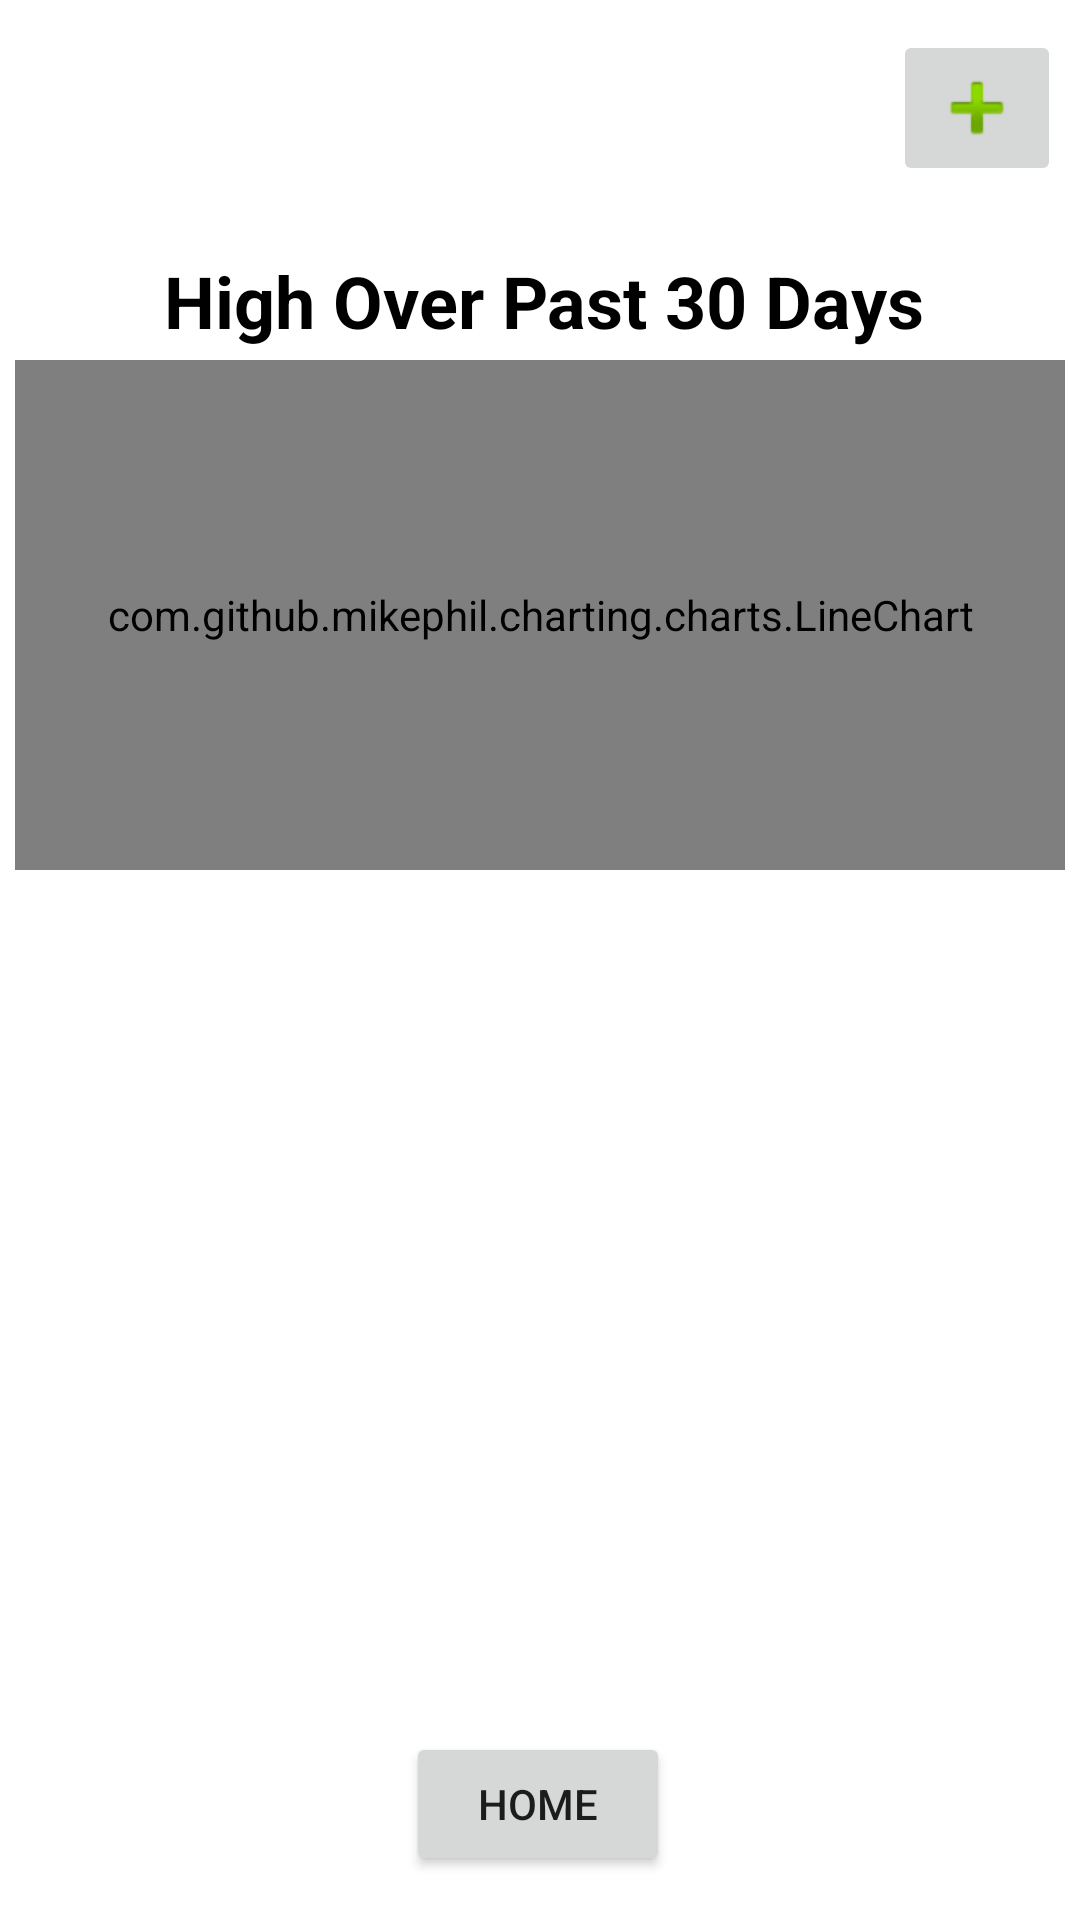

Icons on this 1080x1920 Android screen, each with its box as (x1, y1, x2, y2):
add: (905, 48, 1049, 168)
